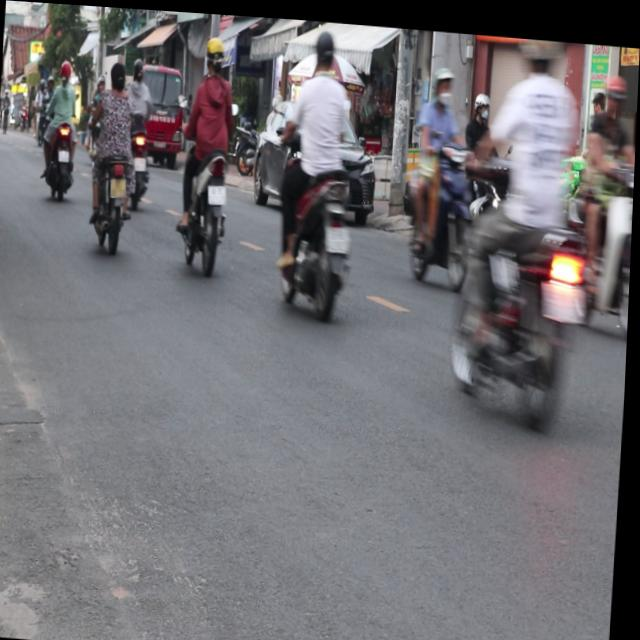helmet: (603, 63, 630, 111), (312, 22, 338, 69), (433, 57, 457, 98), (205, 31, 228, 72)
licenseplate: (444, 26, 606, 429), (272, 17, 369, 318), (401, 54, 487, 289), (569, 57, 639, 338), (175, 29, 241, 273), (88, 53, 140, 252)
motorcyclist: (111, 57, 129, 89)
nohelmet: (327, 221, 353, 247), (209, 181, 228, 201), (111, 175, 128, 196)
